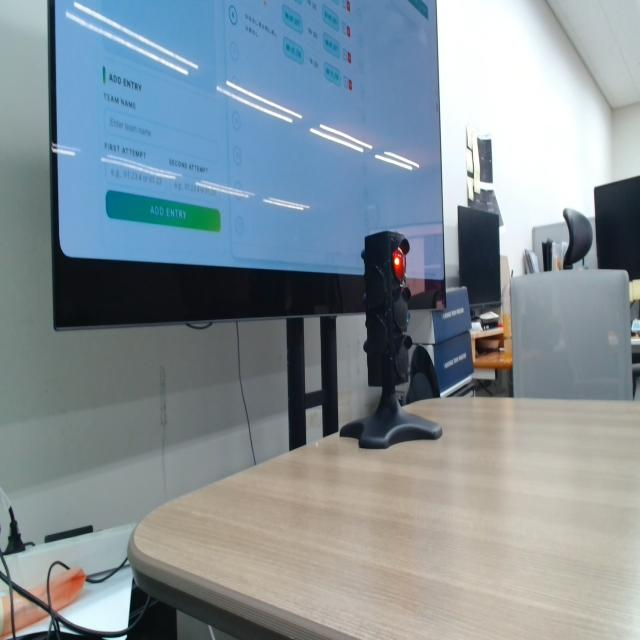red_light: (393, 249, 405, 282)
